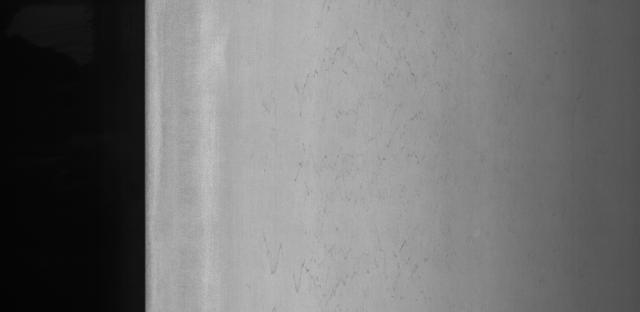silk_spot: (269, 0, 446, 288)
